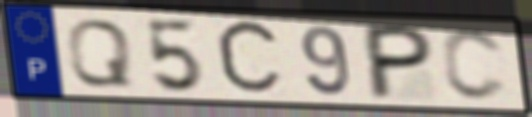5: (142, 16, 206, 95)
9: (297, 24, 353, 97)
C: (212, 15, 287, 100), (438, 27, 511, 104)
P: (365, 22, 437, 102)
Q: (64, 17, 136, 90)
